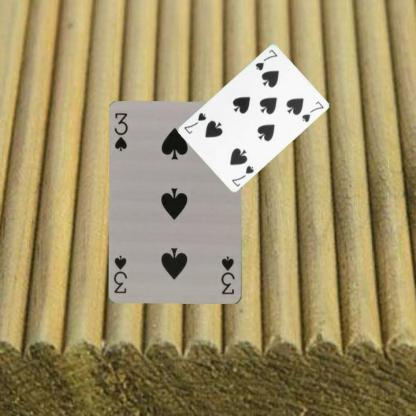3s: (218, 254, 236, 296), (112, 110, 130, 152)
7s: (253, 46, 279, 72), (230, 162, 256, 188)
